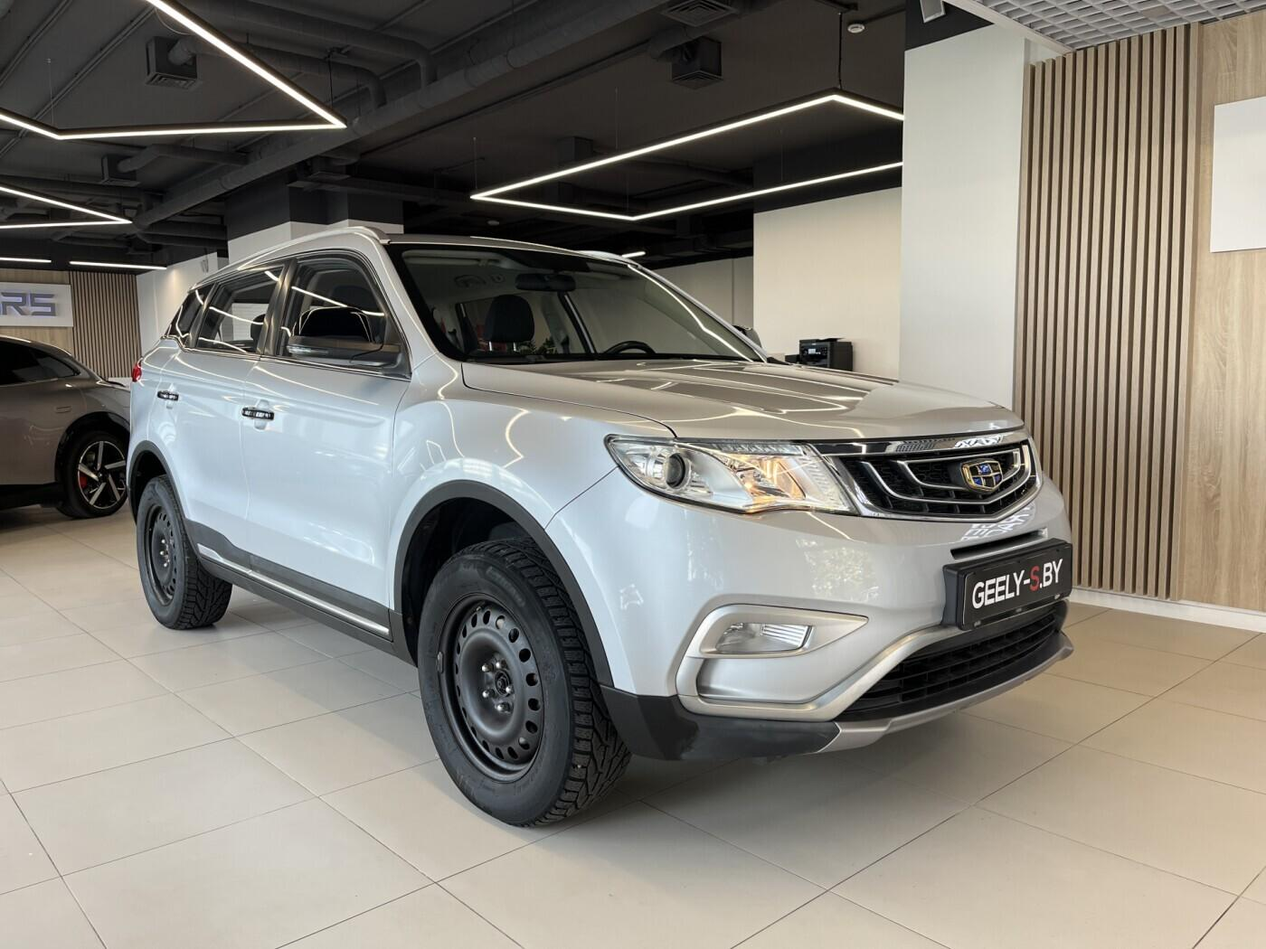Atlas_2016-2023: (114, 234, 1076, 822)
